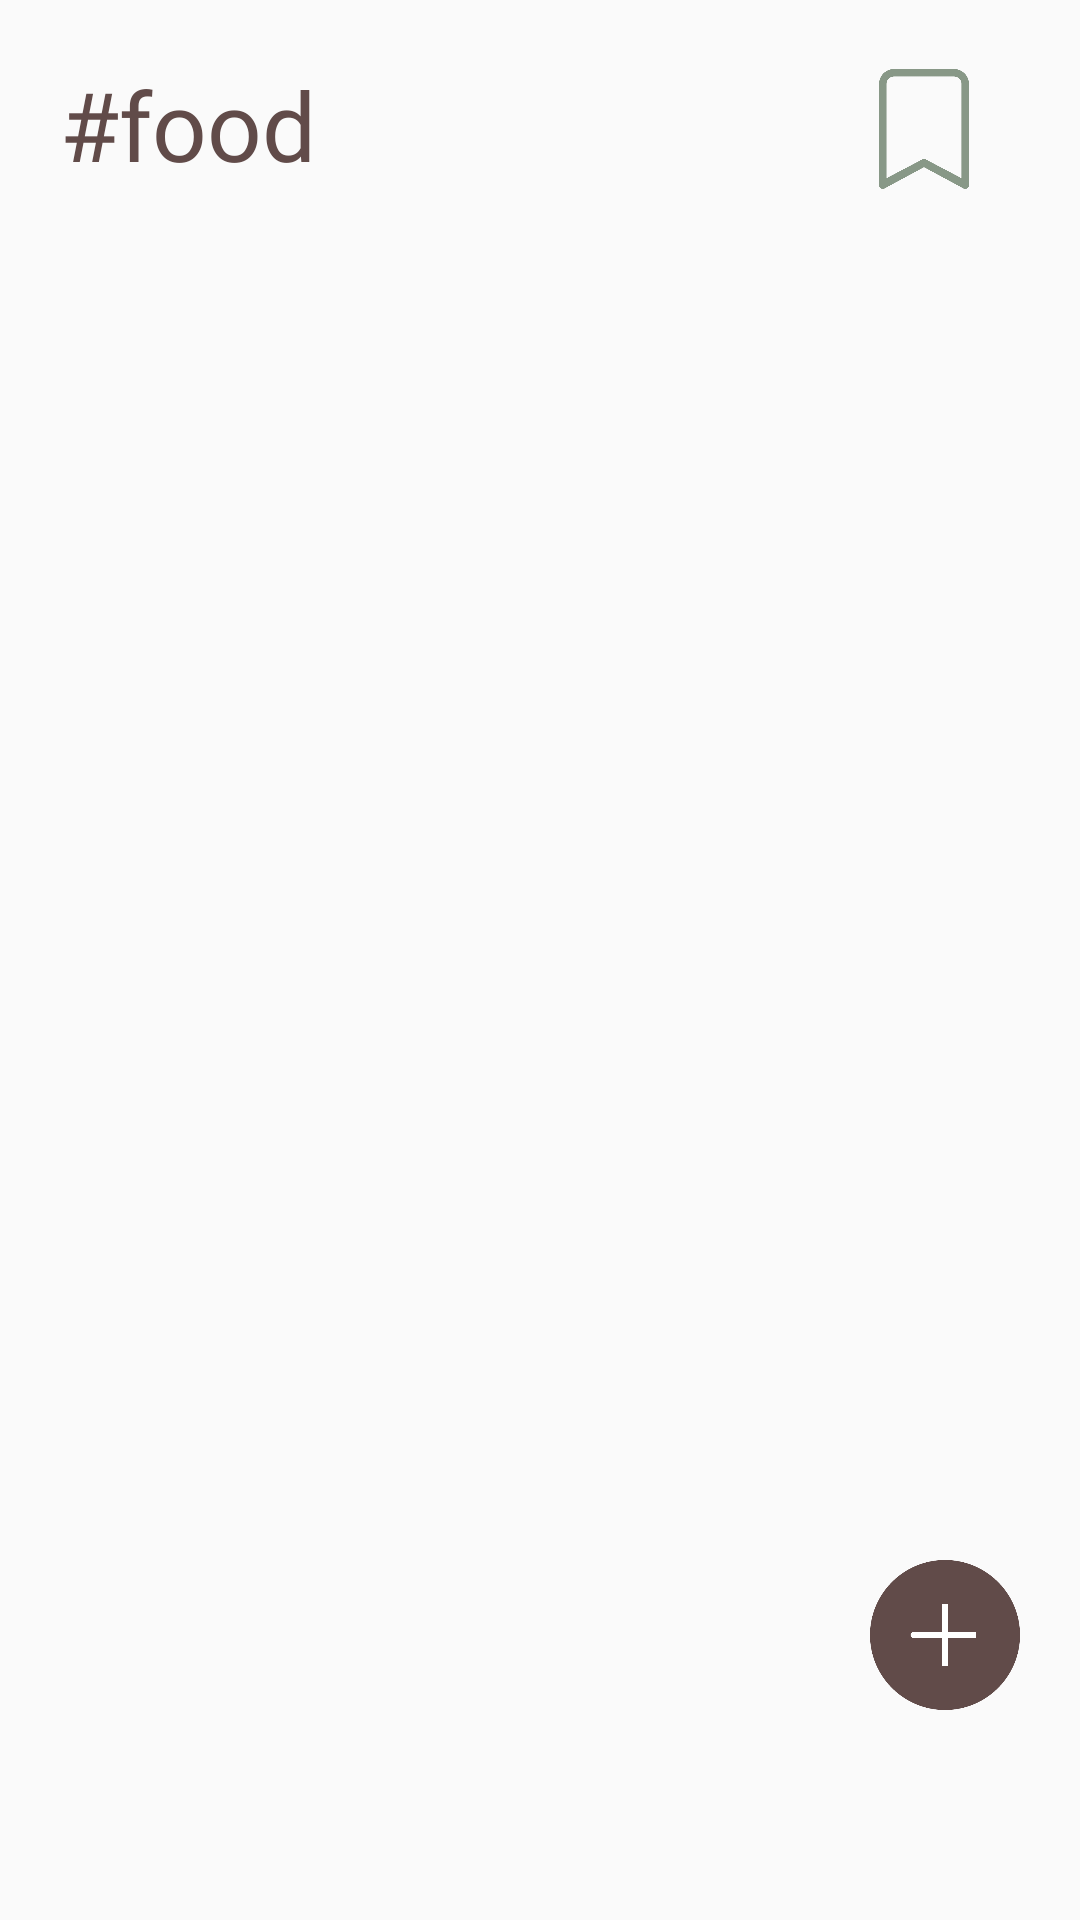

Point at icon controls on the screen. Image size 1080w x 1920h, points as (x=x, y=y).
bookmark no: (x=924, y=129)
plus: (x=945, y=1635)
